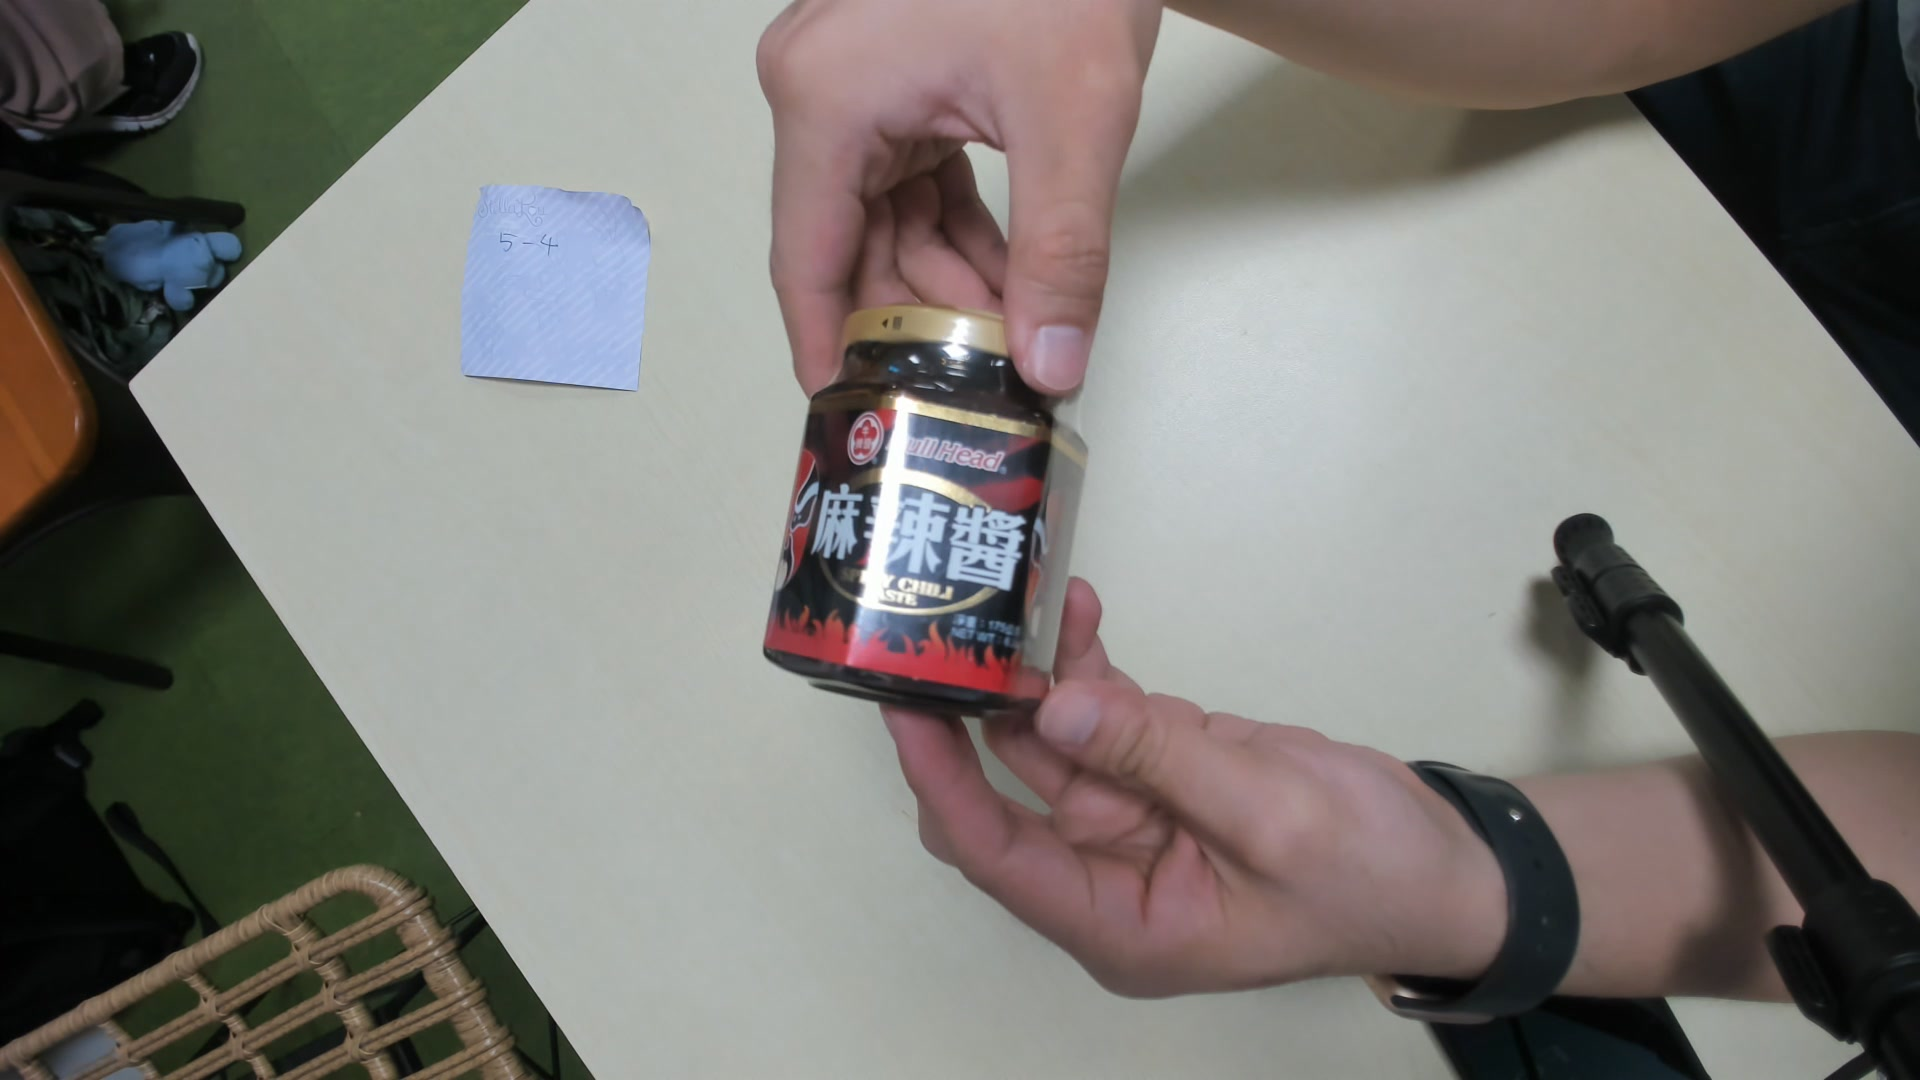OtherSauceDressing_100-199g_NonHalal_NonHealthy: (766, 303, 1080, 715)
